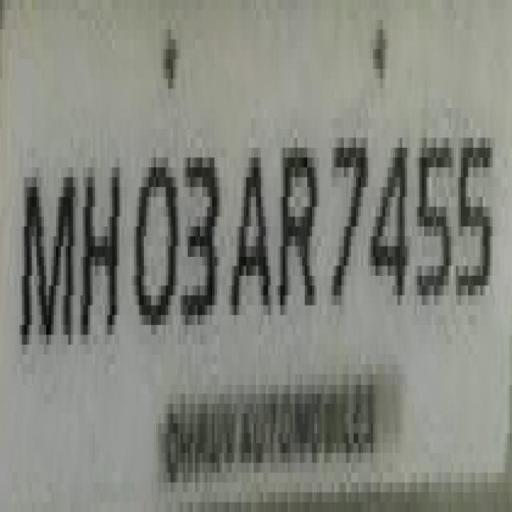number plate: (0, 0, 488, 474)
